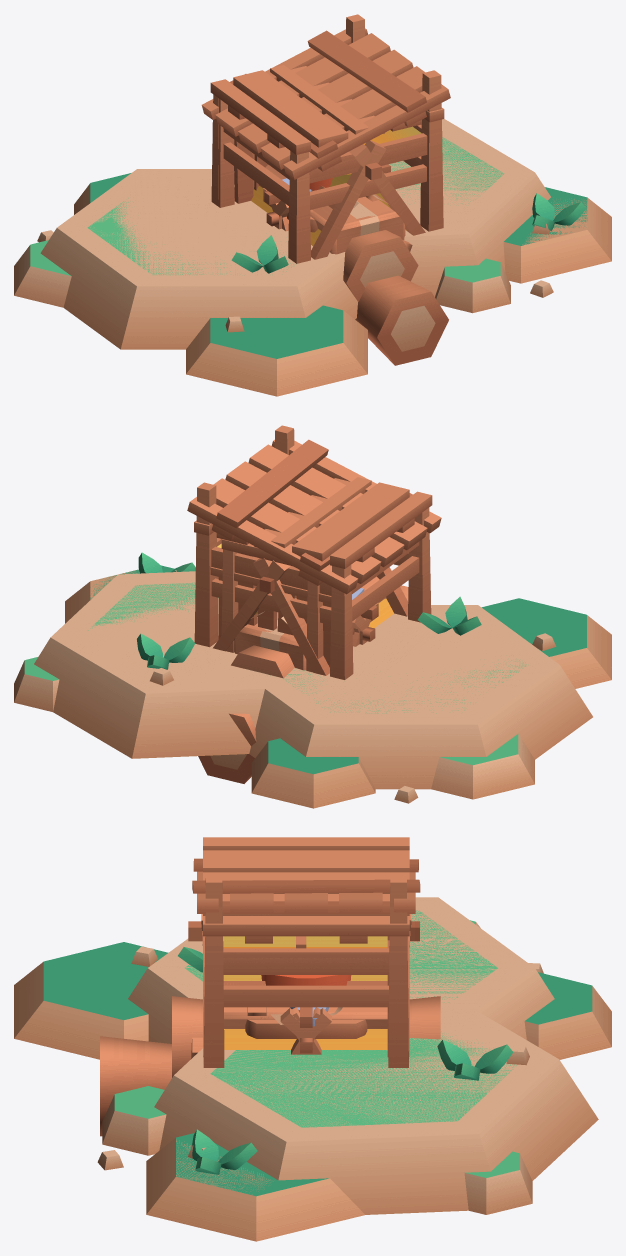
File: survival.glb
The picture shows the model from 3 angles, top to bottom: view 1: azimuth 30°, elevation 25°; view 2: azimuth 150°, elevation 25°; view 3: azimuth 270°, elevation 25°; orthographic projection. The views are drawn at different scales.
Visible parts, largest first — view 1: rock-flat-grass, rock-flat, Group (×2), structure-roof, tree-log, structure-floor, tent-canvas-half, tree-log-small, box-large-open, structure-canvas, fence-fortified, fence-doorway (+1 smaller); view 2: rock-flat-grass, rock-flat, Group (×3), structure-roof, fence-doorway, tent-canvas-half, structure-floor, fence-fortified, tree-log, box-large-open, tree-log-small, structure-canvas; view 3: rock-flat-grass, rock-flat, Group (×2), structure-roof, tree-log, tent-canvas, tree-log-small, structure-canvas, structure-floor, box-large-open, workbench, tent-canvas-half (+3 smaller).
Part boxes in pixels (x1,y1,x2,y2): rock-flat-grass: (14, 119, 611, 396); rock-flat: (37, 119, 610, 332); Group (×2): (201, 28, 450, 179); structure-roof: (223, 14, 443, 231); tree-log: (355, 240, 448, 365); structure-floor: (218, 99, 427, 263); tent-canvas-half: (234, 140, 425, 259); tree-log-small: (343, 195, 418, 301); box-large-open: (259, 164, 405, 254); structure-canvas: (223, 126, 427, 183); fence-fortified: (234, 139, 267, 203); fence-doorway: (211, 94, 254, 206); rock-flat-grass: (14, 552, 611, 808); rock-flat: (51, 569, 591, 803); Group (×3): (187, 439, 441, 594); structure-roof: (194, 425, 419, 647); fence-doorway: (210, 549, 351, 679); tent-canvas-half: (213, 558, 408, 675); structure-floor: (211, 507, 431, 676); fence-fortified: (211, 553, 331, 667); tree-log: (198, 585, 408, 783); box-large-open: (234, 576, 386, 670); tree-log-small: (231, 645, 294, 678); structure-canvas: (211, 541, 419, 595); rock-flat-grass: (14, 897, 611, 1241); rock-flat: (97, 897, 598, 1214); Group (×2): (192, 837, 420, 943); structure-roof: (203, 875, 408, 1067); tree-log: (100, 1036, 202, 1136); tent-canvas: (223, 936, 387, 1049); tree-log-small: (172, 996, 440, 1077); structure-canvas: (223, 947, 389, 974); structure-floor: (223, 948, 389, 969); box-large-open: (224, 1007, 387, 1028); workbench: (245, 1019, 367, 1038); tent-canvas-half: (188, 914, 419, 1057).
Bounding box in the file's own units: 1.79 × 0.7628 × 1.45.
Materials: 1 (1 with a texture image).
